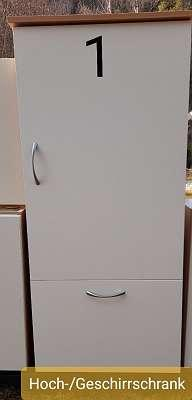cabinet_door: (29, 25, 186, 283), (34, 280, 183, 374)
handle: (28, 139, 44, 189), (80, 287, 127, 302)
